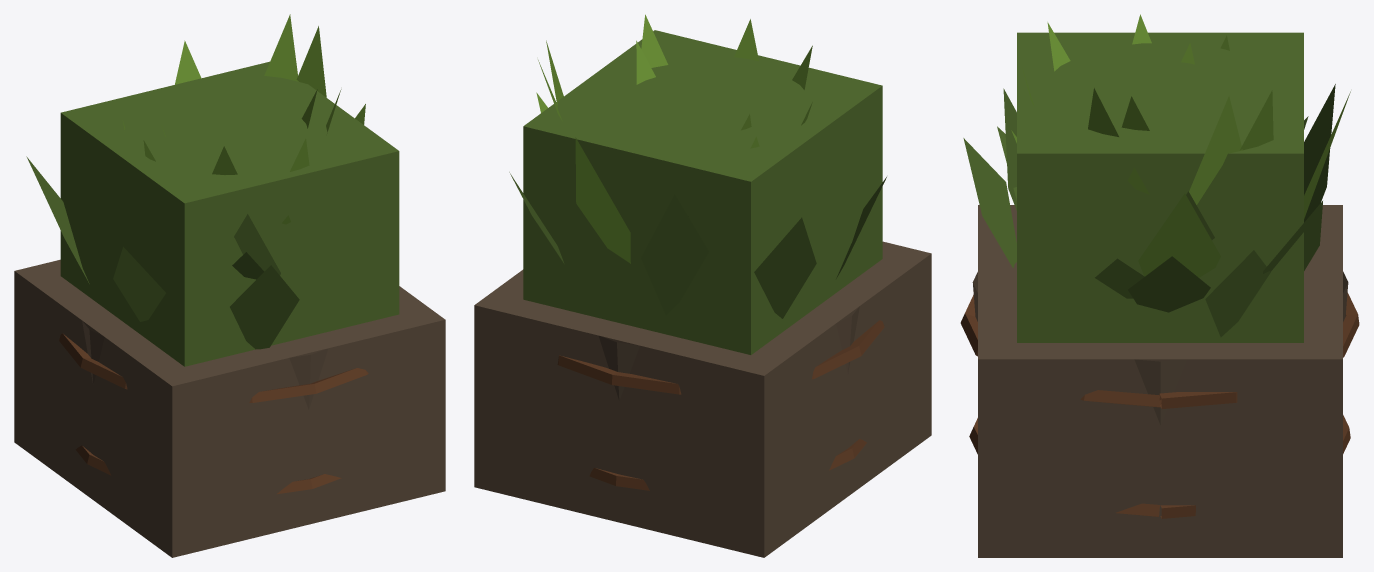
The model's file is homestead_planter.glb.
3 views of the same model, side by side, from view 1: azimuth 30°, elevation 25°; view 2: azimuth 150°, elevation 25°; view 3: azimuth 270°, elevation 25° (orthographic). The views are drawn at different scales.
Parts seen in each view (by area): view 1: HomesteadPlanter_FarTub, HomesteadPlanter_FarGreens, HomesteadPlanter_Greens, HomesteadPlanter_Shoots, HomesteadPlanter_Hoop0.34, HomesteadPlanter_Staves, HomesteadPlanter_Hoop0.10; view 2: HomesteadPlanter_FarTub, HomesteadPlanter_FarGreens, HomesteadPlanter_Greens, HomesteadPlanter_Shoots, HomesteadPlanter_Hoop0.34, HomesteadPlanter_Staves, HomesteadPlanter_Hoop0.10; view 3: HomesteadPlanter_FarTub, HomesteadPlanter_FarGreens, HomesteadPlanter_Greens, HomesteadPlanter_Shoots, HomesteadPlanter_Hoop0.34, HomesteadPlanter_Staves, HomesteadPlanter_Hoop0.10.
Part boxes in pixels (x1,y1,x2,y2): HomesteadPlanter_FarTub: (14,259,445,557); HomesteadPlanter_FarGreens: (60,61,399,366); HomesteadPlanter_Greens: (26,156,299,349); HomesteadPlanter_Shoots: (122,14,365,224); HomesteadPlanter_Hoop0.34: (59,333,368,402); HomesteadPlanter_Staves: (82,321,328,409); HomesteadPlanter_Hoop0.10: (75,445,341,494); HomesteadPlanter_FarTub: (474,241,931,557); HomesteadPlanter_FarGreens: (523,30,882,354); HomesteadPlanter_Greens: (509,172,886,318); HomesteadPlanter_Shoots: (536,14,812,263); HomesteadPlanter_Hoop0.34: (557,320,884,394); HomesteadPlanter_Staves: (598,306,859,400); HomesteadPlanter_Hoop0.10: (589,439,866,490); HomesteadPlanter_FarTub: (978,205,1342,557); HomesteadPlanter_FarGreens: (1017,32,1303,342); HomesteadPlanter_Greens: (963,84,1335,337); HomesteadPlanter_Shoots: (1011,14,1350,277); HomesteadPlanter_Hoop0.34: (960,293,1359,408); HomesteadPlanter_Staves: (972,271,1348,424); HomesteadPlanter_Hoop0.10: (969,415,1350,518).
Size of the model in its own units: 0.7735 by 0.9571 by 0.7649.
